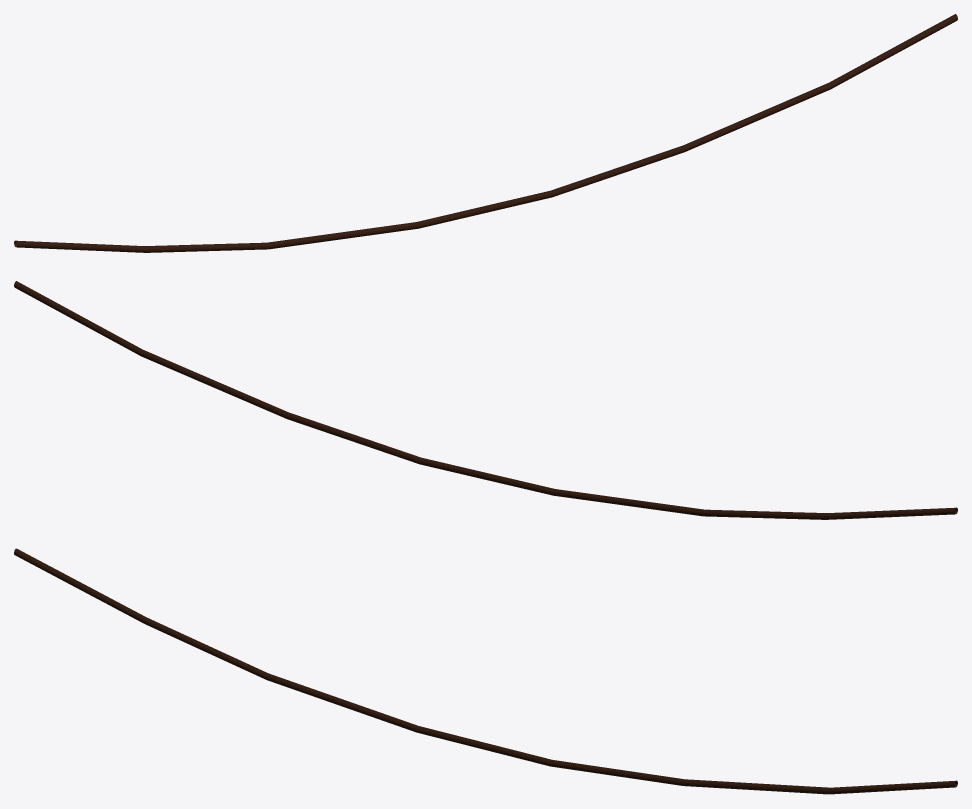
Rendered from Rope_Drooping.fbx.
3 views of the same model, one above another, from view 1: azimuth 30°, elevation 25°; view 2: azimuth 150°, elevation 25°; view 3: azimuth 330°, elevation 25° (orthographic).
Parts seen in each view (by area): view 1: TightropeRope; view 2: TightropeRope; view 3: TightropeRope.
Part boxes in pixels (x1=…): TightropeRope: x1=14, y1=14, x2=957, y2=252; TightropeRope: x1=14, y1=281, x2=957, y2=519; TightropeRope: x1=14, y1=548, x2=957, y2=794.
Bounding box in the file's own units: 37.65 × 3.33 × 0.2437.
